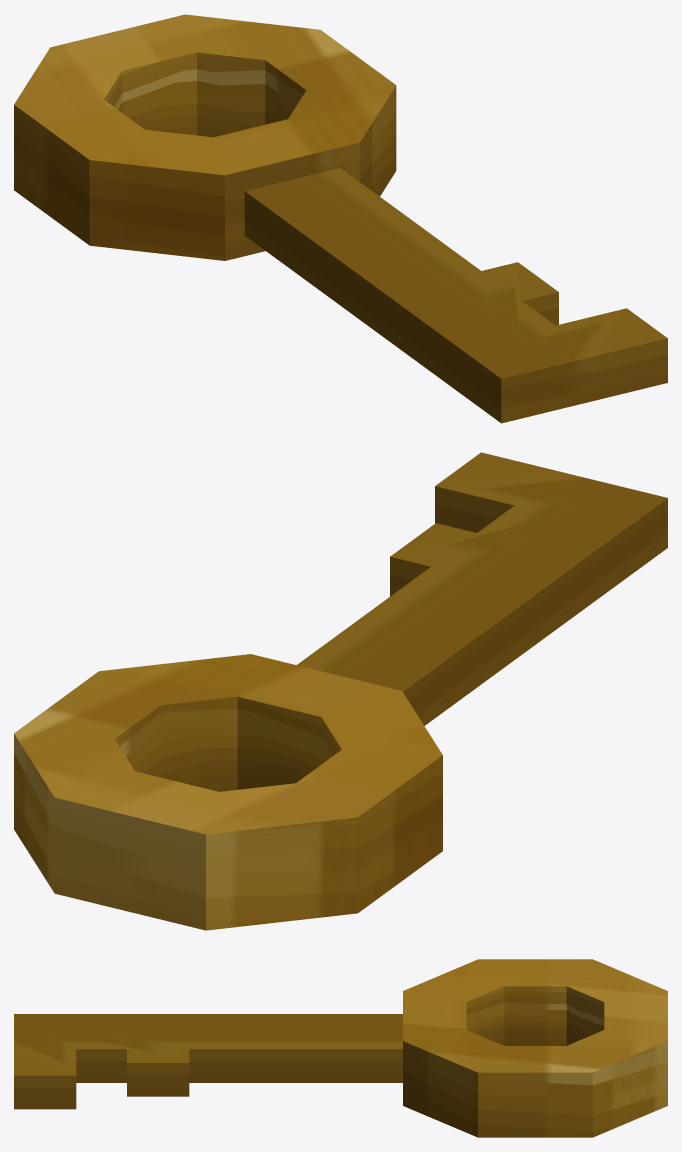
The model's file is key.fbx.
3 renders of one model, top to bottom at view 1: azimuth 30°, elevation 25°; view 2: azimuth 150°, elevation 25°; view 3: azimuth 270°, elevation 25°, orthographic. The views are drawn at different scales.
Parts seen in each view (by area): view 1: key; view 2: key; view 3: key.
Part boxes in pixels (x1,y1,x2,y2): key: [14, 14, 667, 423]; key: [14, 452, 667, 930]; key: [14, 959, 667, 1137].
Size of the model in its own units: 44.89 by 11.98 by 109.
